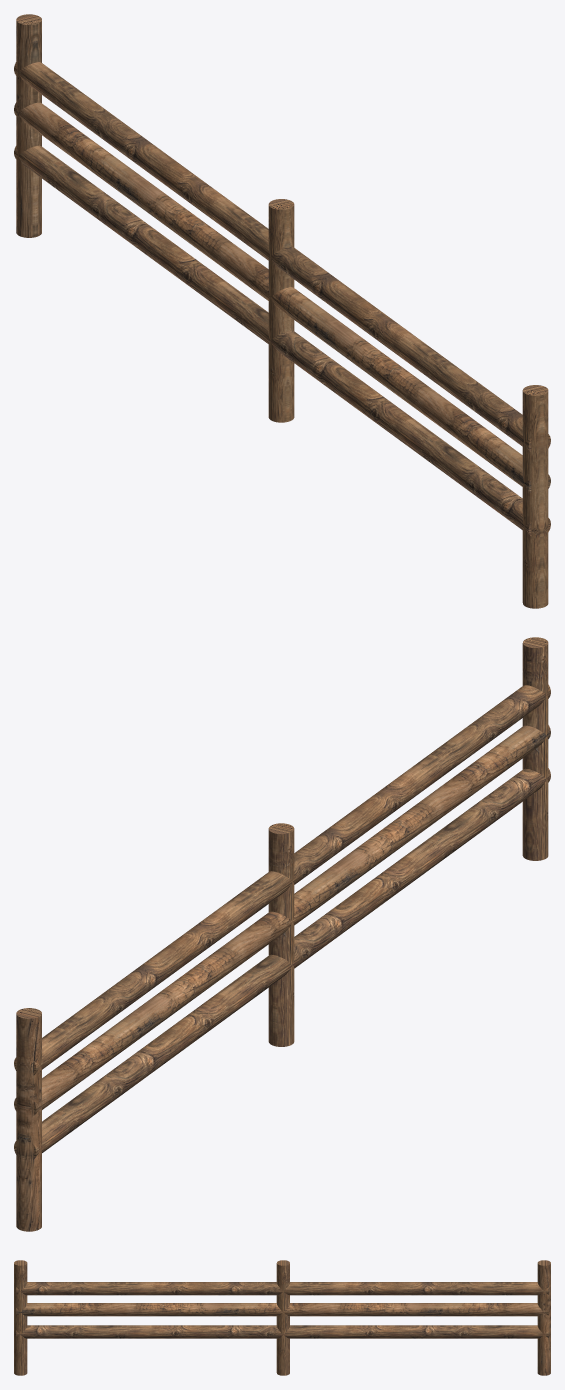
Rendered from aita1.fbx.
The picture shows the model from 3 angles, top to bottom: view 1: azimuth 30°, elevation 25°; view 2: azimuth 150°, elevation 25°; view 3: azimuth 270°, elevation 25°; orthographic projection. The views are drawn at different scales.
Visible parts, largest first — view 1: Cylinder.003; view 2: Cylinder.003; view 3: Cylinder.003.
Boxes of the visible parts, box(x1,y1,x2,y2) form: Cylinder.003: box(14, 14, 550, 608); Cylinder.003: box(14, 637, 550, 1231); Cylinder.003: box(14, 1260, 550, 1375).
Size of the model in its own units: 37.79 by 345 by 1525.
